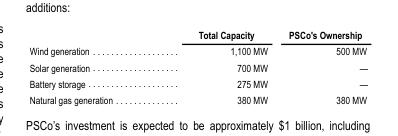table: (28, 28, 366, 105)
table column: (28, 28, 154, 105), (154, 28, 277, 105), (277, 28, 366, 105)
table column header: (28, 28, 366, 42)
table row: (28, 58, 366, 75), (28, 42, 366, 58), (28, 75, 366, 91), (28, 28, 366, 42), (28, 91, 366, 105)
